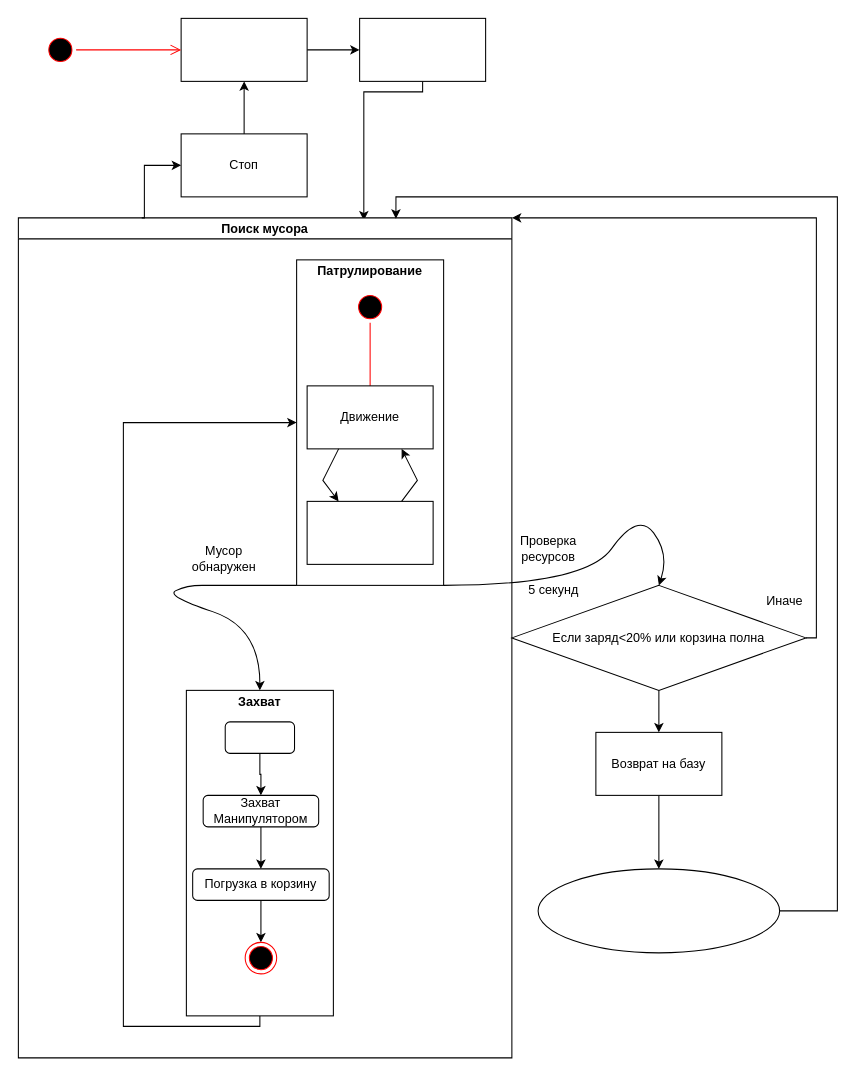
This 864x1076 diagram has some shape labels left out. Here are the shapes that lost their labels. From the top down, the centre of each, then its label:
At point (243, 49): "Ожидание".
At point (422, 49): "Запуск".
At point (369, 532): "Осмотр".
At point (259, 737): "Подъезд".
At point (658, 910): "Опустошение корзины и зарядка".
